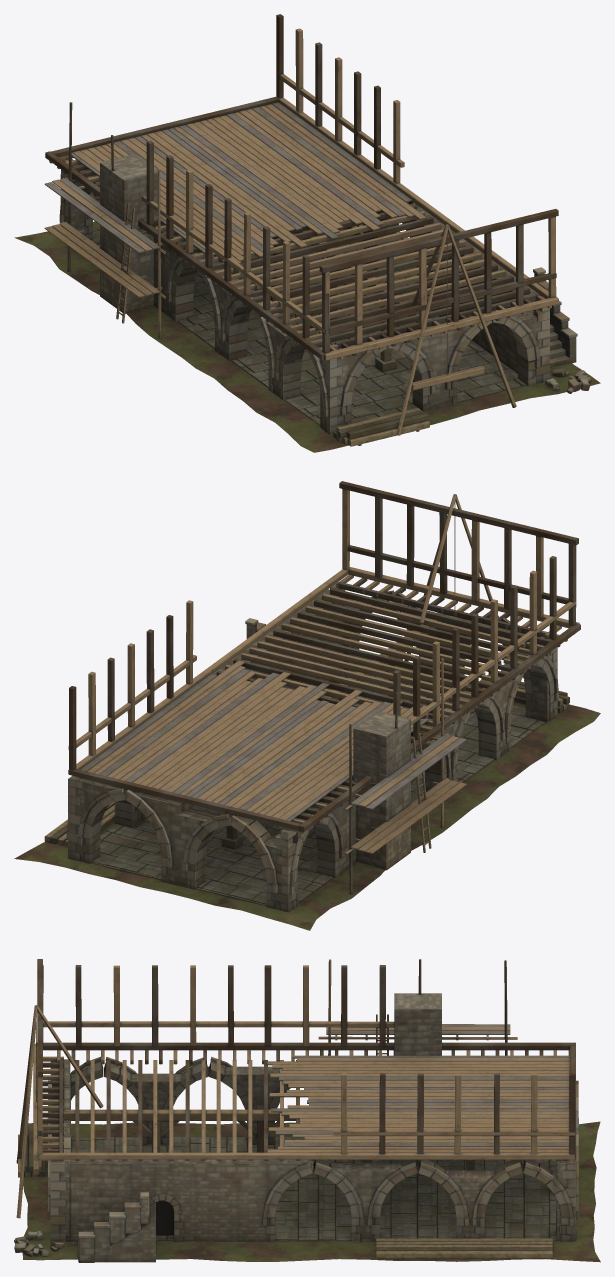
The model's file is guildhall_build2.glb.
3 views of the same model, one above another, from view 1: azimuth 30°, elevation 25°; view 2: azimuth 150°, elevation 25°; view 3: azimuth 270°, elevation 25° (orthographic). The views are drawn at different scales.
Parts seen in each view (by area): view 1: guildhall_build2_LOD0; view 2: guildhall_build2_LOD0; view 3: guildhall_build2_LOD0.
Boxes of the visible parts, box(x1,y1,x2,y2) form: guildhall_build2_LOD0: box(14, 14, 600, 452); guildhall_build2_LOD0: box(14, 481, 600, 930); guildhall_build2_LOD0: box(14, 959, 600, 1262).
Size of what is drawn, in the model's own units: 13.95 by 8.24 by 23.3.
1 material, 1 textured.
